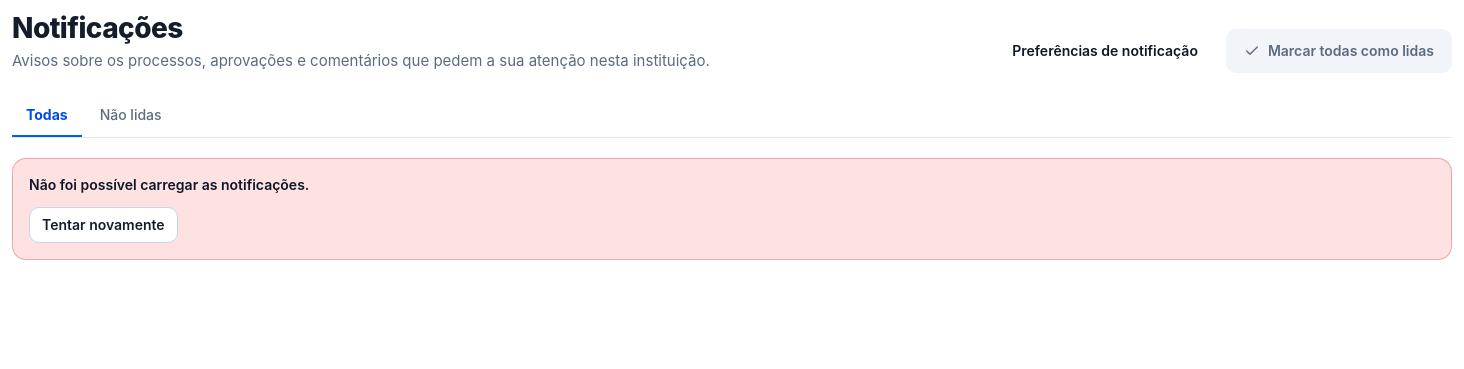
it: NotificationList (SCR-036 · /notificacoes) › [FA-04] vazio e [Validação/erro] falha de carga com "Tentar novamente"
Expected: the text "Não foi possível carregar as notificações." is shown, [29,176,309,193]
Click the button "Tentar novamente": (103, 225) [29,207,178,243]
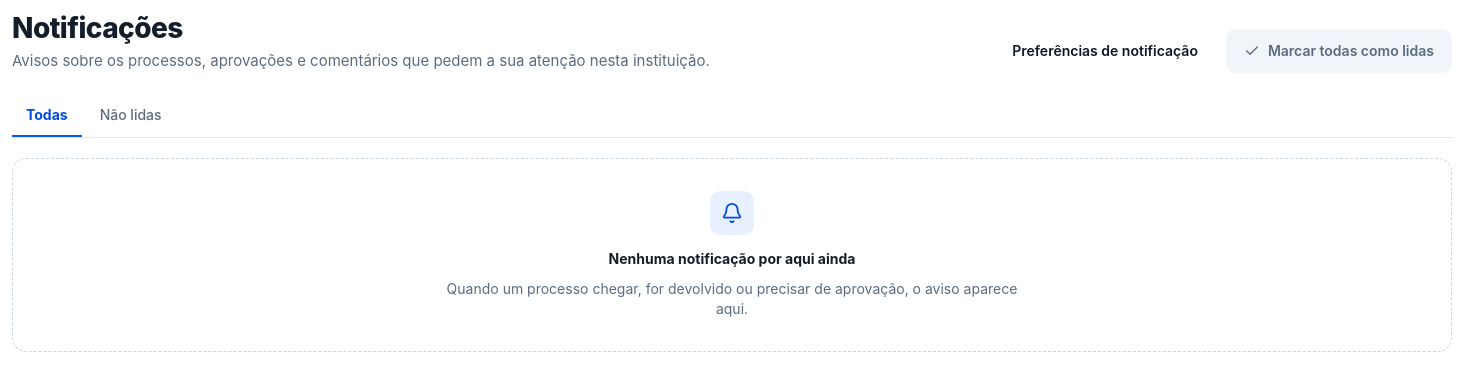
Expected: the button "Marcar todas como lidas" is disabled, [1226,29,1452,73]
Expected: the text "Nenhuma notificação por aqui ainda" is shown, [609,249,855,269]
